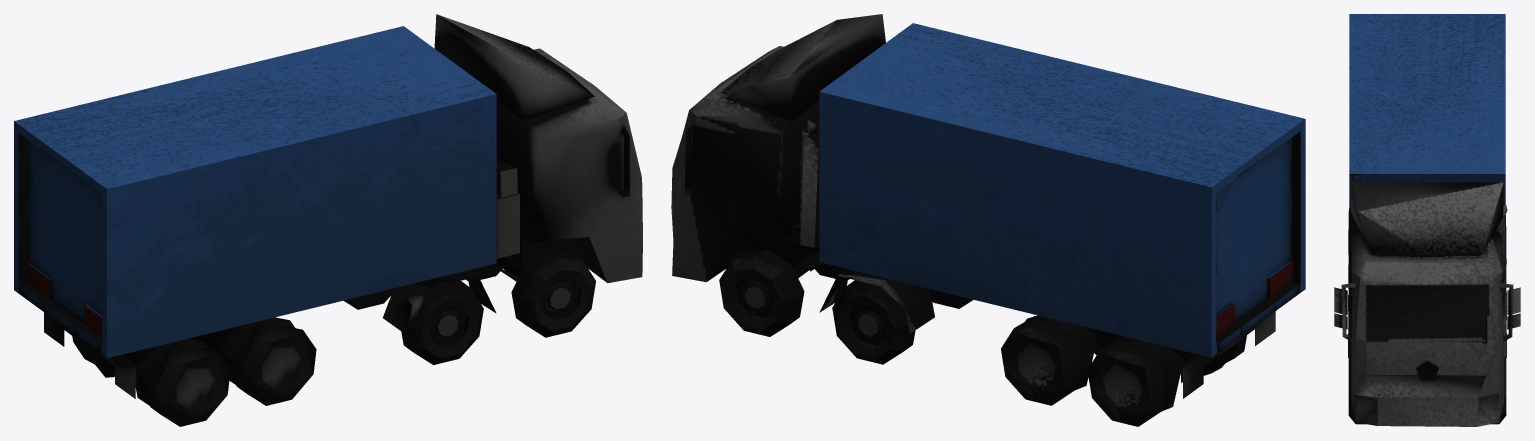
The model's file is car_2.fbx.
3 renders of one model, left to right at view 1: azimuth 30°, elevation 25°; view 2: azimuth 150°, elevation 25°; view 3: azimuth 270°, elevation 25°, orthographic. The views are drawn at different scales.
Parts seen in each view (by area): view 1: final; view 2: final; view 3: final.
Part boxes in pixels (left/top/right/bottom): final: left=14, top=14, right=642, bottom=426; final: left=671, top=14, right=1305, bottom=426; final: left=1334, top=14, right=1520, bottom=426.
Size of the model in its own units: 0.5825 by 0.7766 by 1.67.
1 material, 1 textured.
